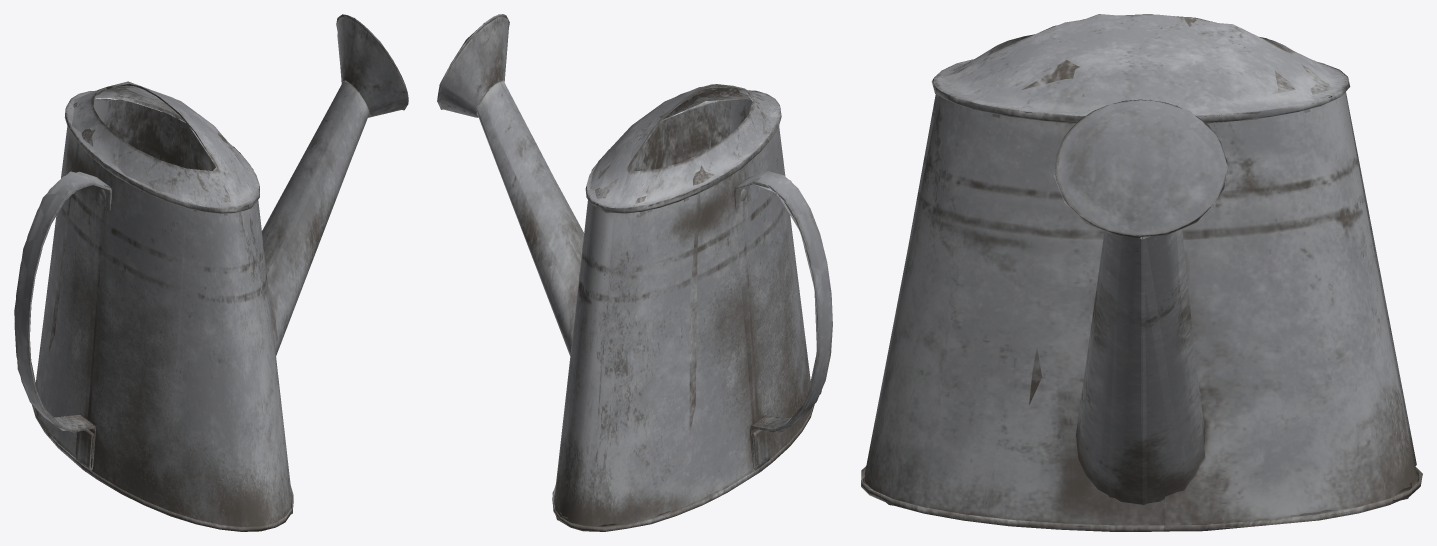
The model's file is watering-can.glb.
The picture shows the model from 3 angles, left to right: view 1: azimuth 30°, elevation 25°; view 2: azimuth 150°, elevation 25°; view 3: azimuth 270°, elevation 25°; orthographic projection. The views are drawn at different scales.
Visible parts, largest first — view 1: watering-can-fine, watering-can-coarse; view 2: watering-can-fine, watering-can-coarse; view 3: watering-can-fine, watering-can-coarse.
Part boxes in pixels (x1,y1,x2,y2): watering-can-fine: (14, 14, 408, 531); watering-can-coarse: (14, 14, 408, 524); watering-can-fine: (437, 14, 832, 531); watering-can-coarse: (437, 14, 831, 526); watering-can-fine: (861, 14, 1422, 531); watering-can-coarse: (862, 14, 1418, 529).
Bounding box in the file's own units: 1 × 1 × 1.
Materials: 1 (1 with a texture image).
